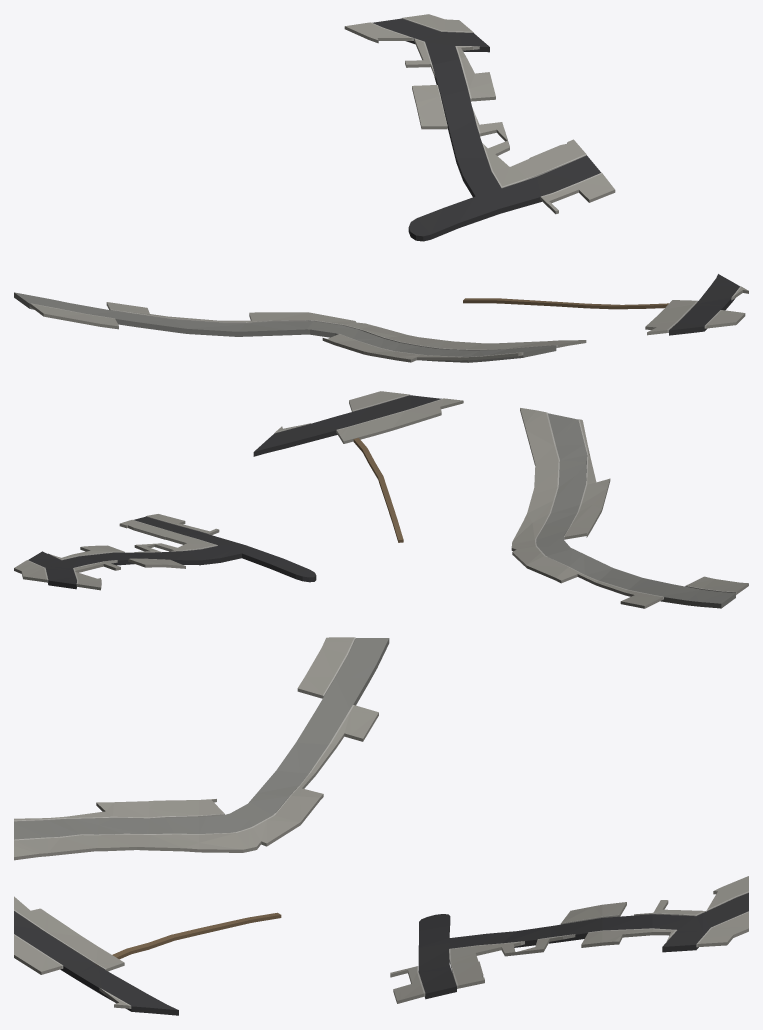
3 views of the same model, one above another, from view 1: azimuth 30°, elevation 25°; view 2: azimuth 150°, elevation 25°; view 3: azimuth 270°, elevation 25° (orthographic). The views are drawn at different scales.
Size of the model in its own units: 147 by 20.6 by 146.
